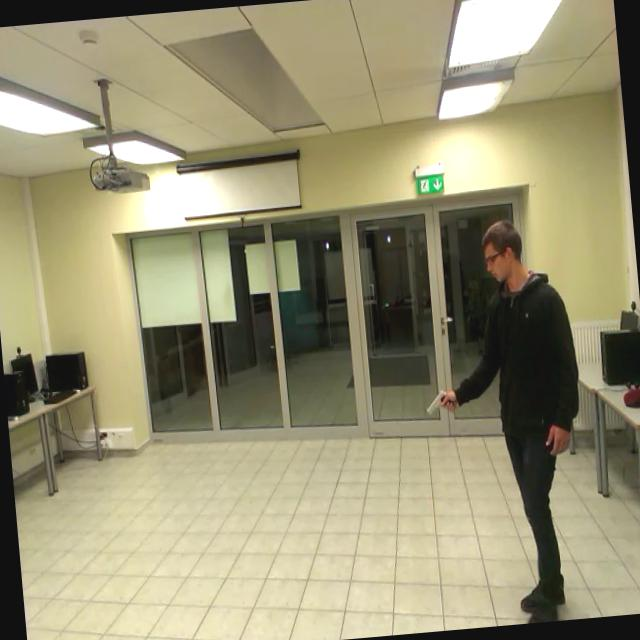handgun: (418, 378, 458, 425)
